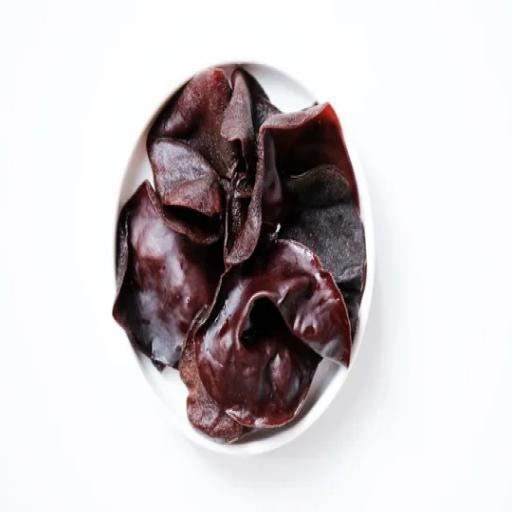mushroom: (104, 48, 366, 461)
